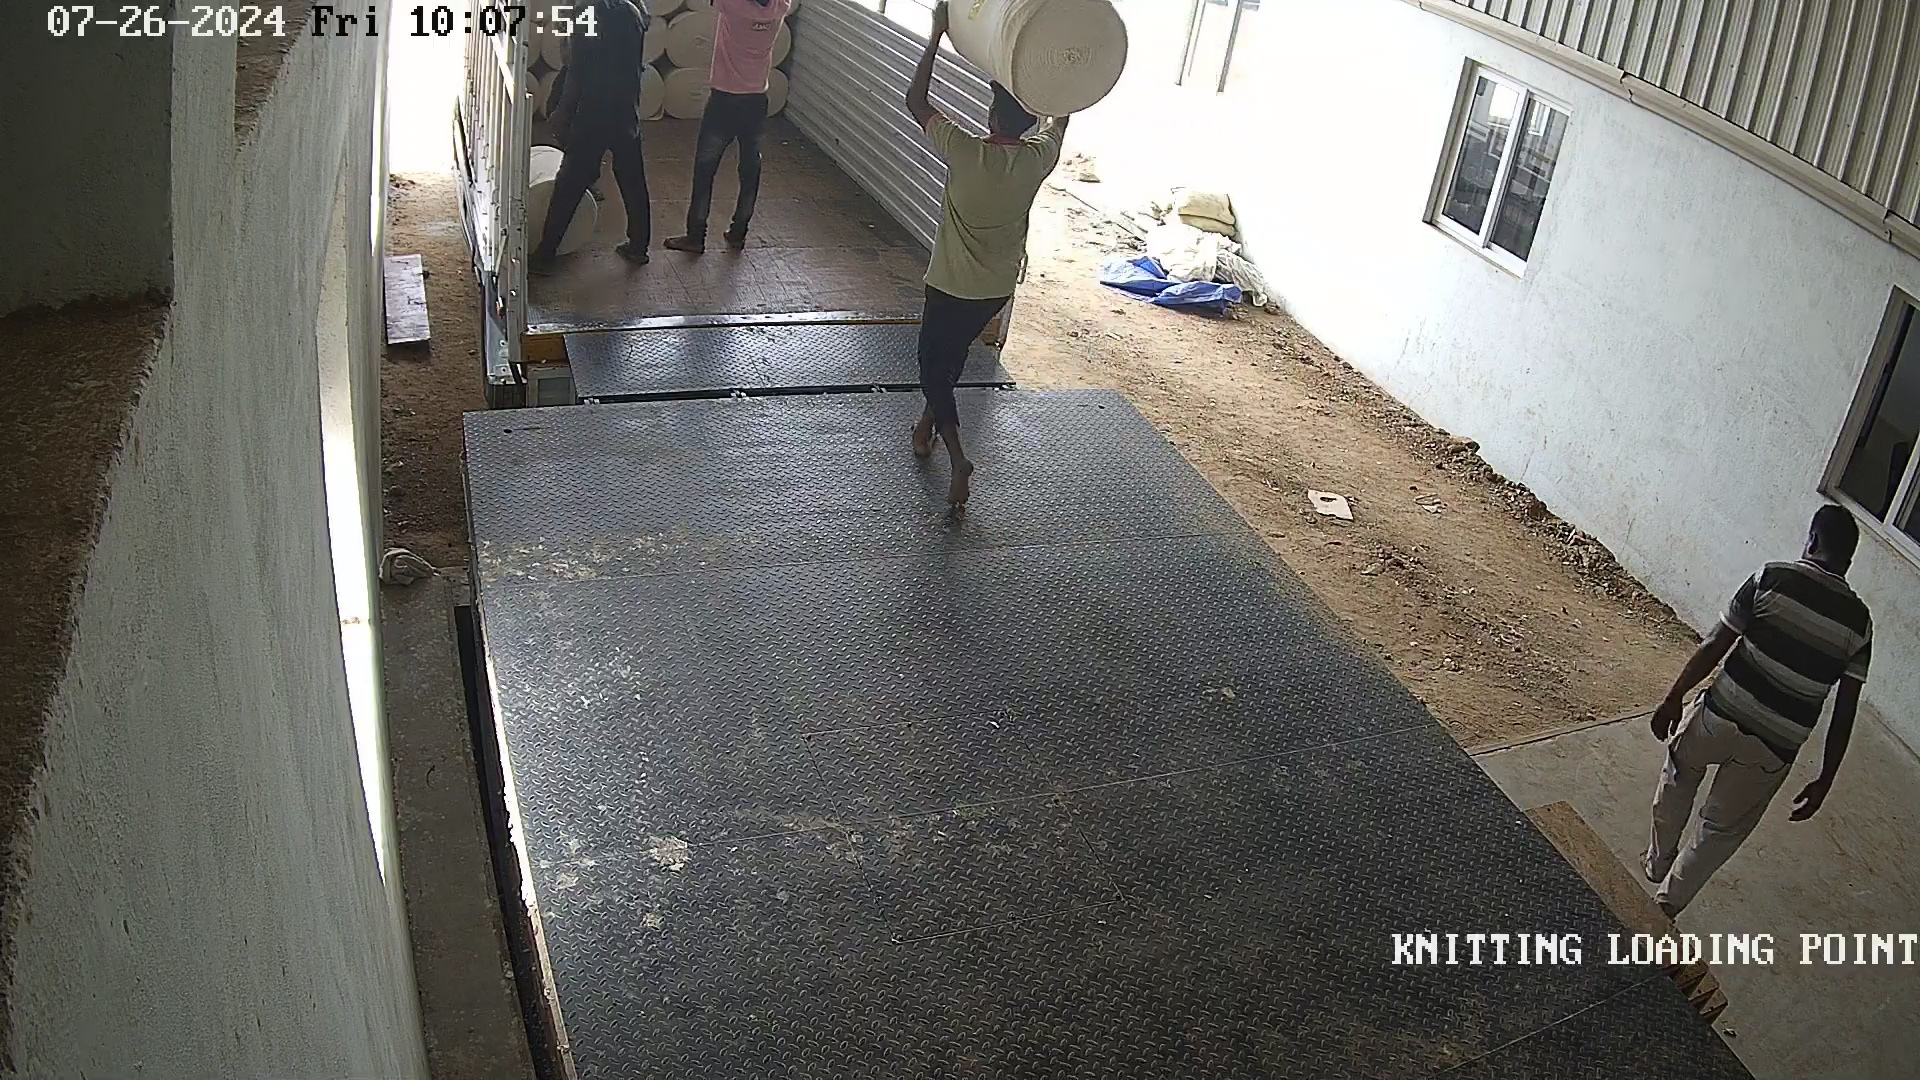bag: (916, 1, 1141, 120)
